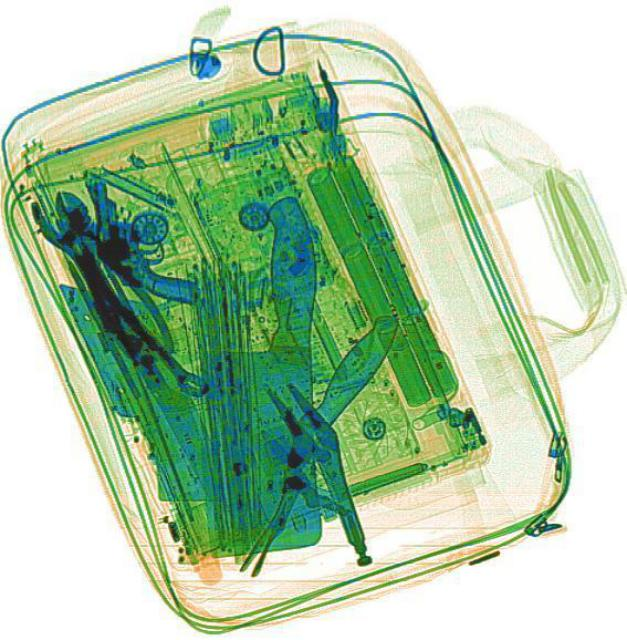Gun: (87, 176, 200, 300)
Knife: (215, 303, 404, 567), (195, 194, 320, 554)
Pliers: (31, 178, 176, 374)
Wrench: (19, 185, 214, 408)
